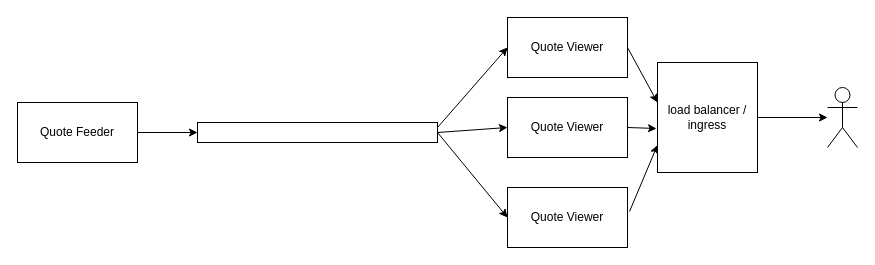
This 875x265 diagram has some shape labels left out. Each missing label, with the box of its shape:
Service Bus: (196, 122, 438, 142)
user: (826, 86, 858, 148)
